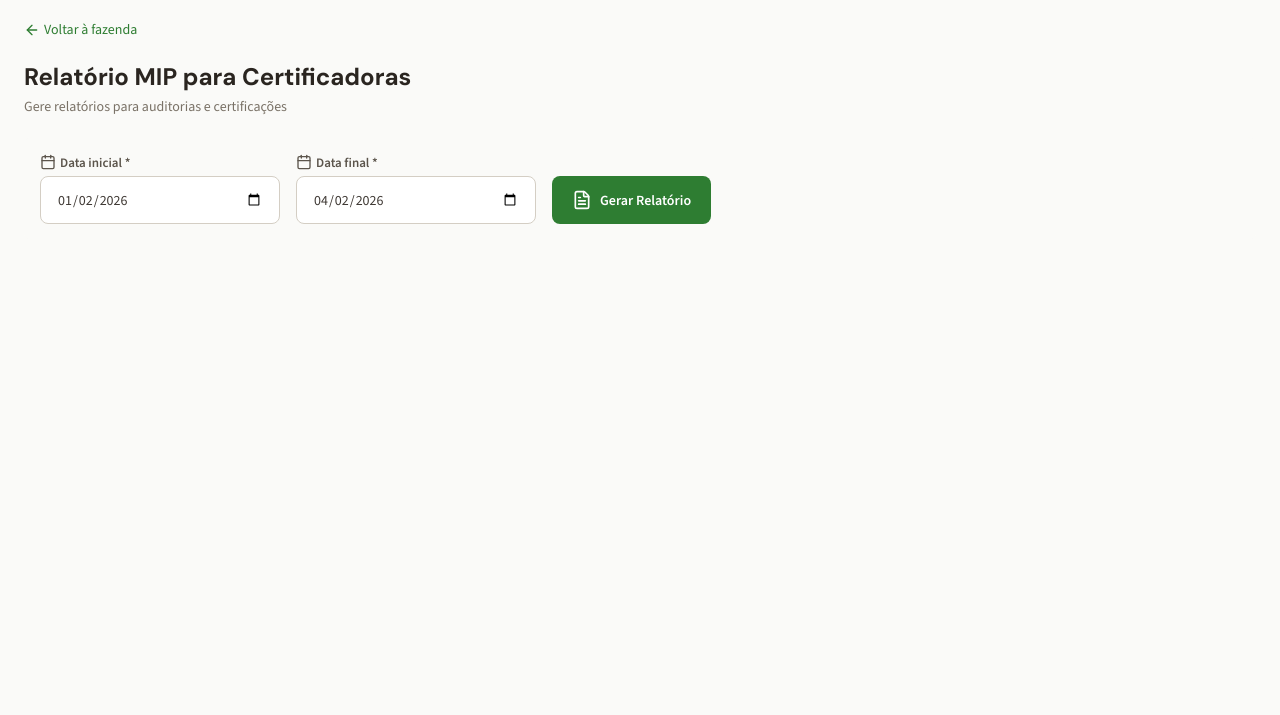
Test: MonitoringReportPage › should display report data after generation
This screenshot has width=1280, height=715.
Click the button "Gerar Relatório" at (632, 200), box [552,176,711,224]
(page scrolled)
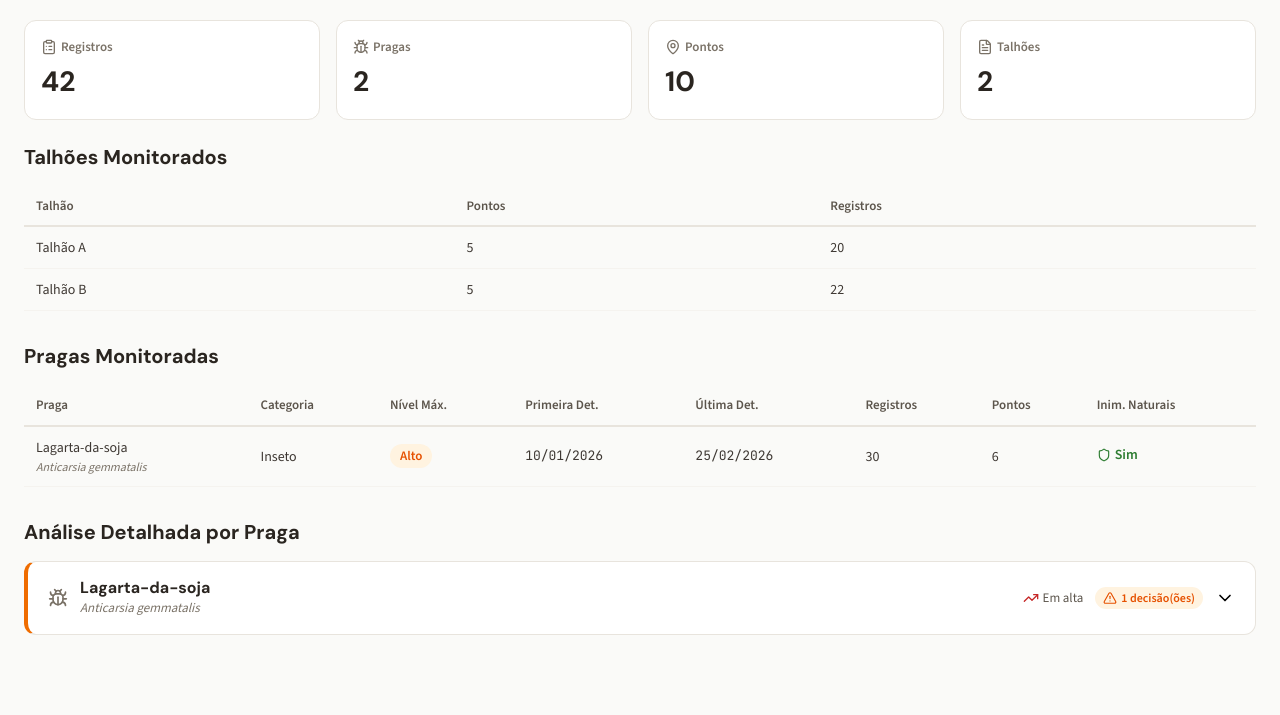
expect the text "42" is shown: met, box [41,63,75,100]
expect the heading "Talhões Monitorados" is shown: met, box [24,144,227,170]
expect the text "Talhão A" is shown: met, box [24,227,454,269]
